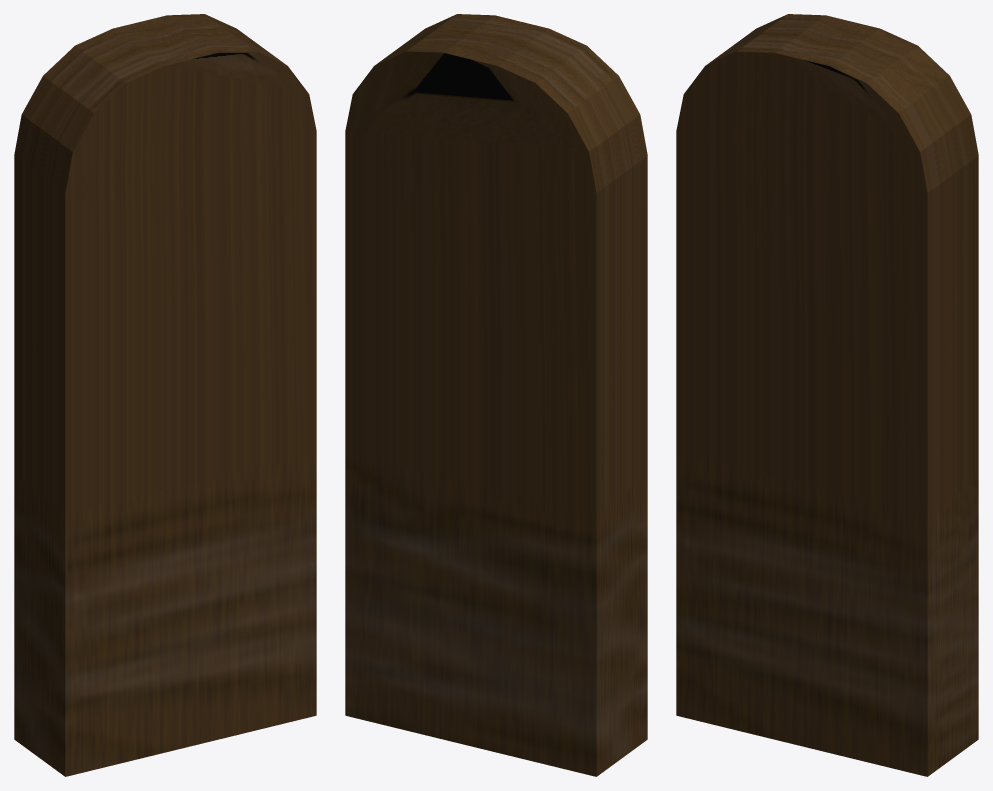
File: Door.glb
3 views of the same model, side by side, from view 1: azimuth 30°, elevation 25°; view 2: azimuth 150°, elevation 25°; view 3: azimuth 330°, elevation 25° (orthographic).
Parts seen in each view (by area): view 1: door; view 2: door; view 3: door.
Boxes of the visible parts, box(x1,y1,x2,y2) form: door: box(14, 14, 316, 776); door: box(345, 14, 647, 776); door: box(676, 14, 978, 776).
Size of the model in its own units: 2 by 5.22 by 0.7061.
1 material, 1 textured.
